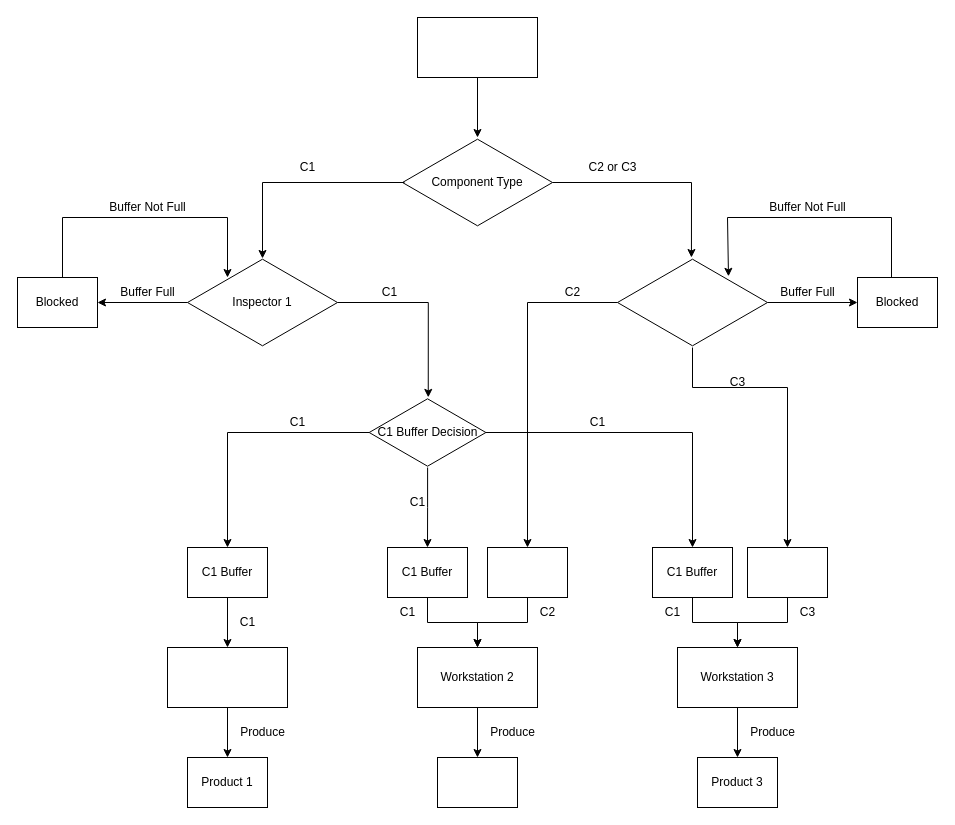
Some shapes in this 955 by 825 pixel diagram are drawn without their labels. Here are the shapes that lost their labels. From the top down, the centre of each, then its label:
the point at 477,47: Component
the point at 692,302: Inspector 2
the point at 527,572: C2 Buffer
the point at 787,572: C3 Buffer
the point at 227,677: Workstation 1
the point at 477,782: Product 2
